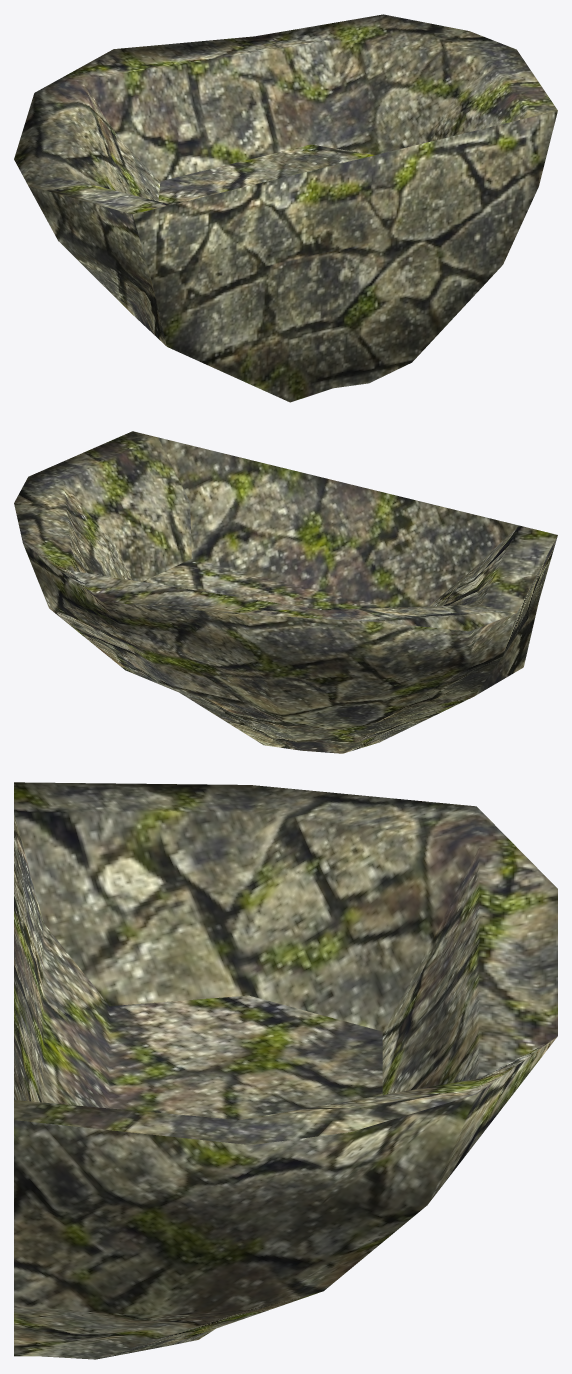
File: Flamebed.FBX
The picture shows the model from 3 angles, top to bottom: view 1: azimuth 30°, elevation 25°; view 2: azimuth 150°, elevation 25°; view 3: azimuth 270°, elevation 25°; orthographic projection. The views are drawn at different scales.
Parts seen in each view (by area): view 1: Box164; view 2: Box164; view 3: Box164.
Boxes of the visible parts, bbox=[...] form: Box164: bbox=[14, 14, 557, 402]; Box164: bbox=[14, 431, 557, 753]; Box164: bbox=[14, 782, 557, 1359].
Size of the model in its own units: 50.62 by 23.11 by 30.
